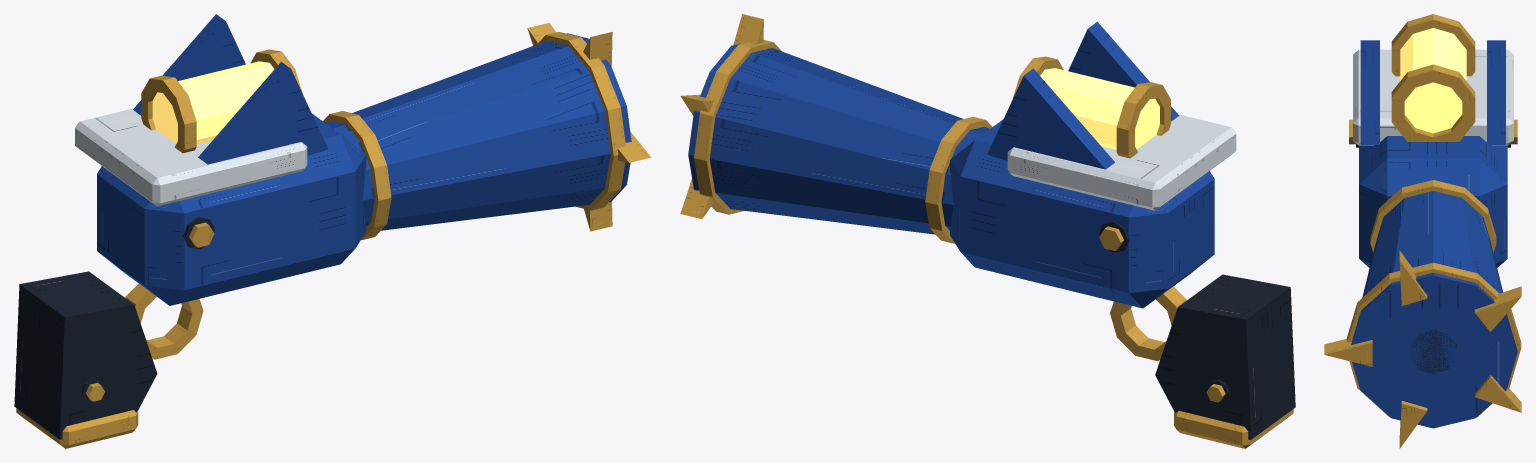
File: polaris.glb
3 views of the same model, side by side, from view 1: azimuth 30°, elevation 25°; view 2: azimuth 150°, elevation 25°; view 3: azimuth 270°, elevation 25° (orthographic). The views are drawn at different scales.
Visible parts, largest first — view 1: body, barrel, grip, core; view 2: body, barrel, grip, core; view 3: barrel, body, core.
Boxes of the visible parts, x1=… form: body: x1=75, y1=14, x2=366, y2=359; barrel: x1=323, y1=23, x2=651, y2=239; grip: x1=14, y1=271, x2=157, y2=448; core: x1=141, y1=49, x2=302, y2=153; body: x1=950, y1=22, x2=1236, y2=361; barrel: x1=680, y1=14, x2=992, y2=243; grip: x1=1155, y1=274, x2=1295, y2=448; core: x1=1012, y1=56, x2=1170, y2=158; barrel: x1=1324, y1=180, x2=1521, y2=448; body: x1=1349, y1=40, x2=1517, y2=267; core: x1=1391, y1=14, x2=1475, y2=141.
Bounding box in the file's own units: 0.554 × 0.323 × 0.1755.
Materials: 5 (5 with a texture image).
